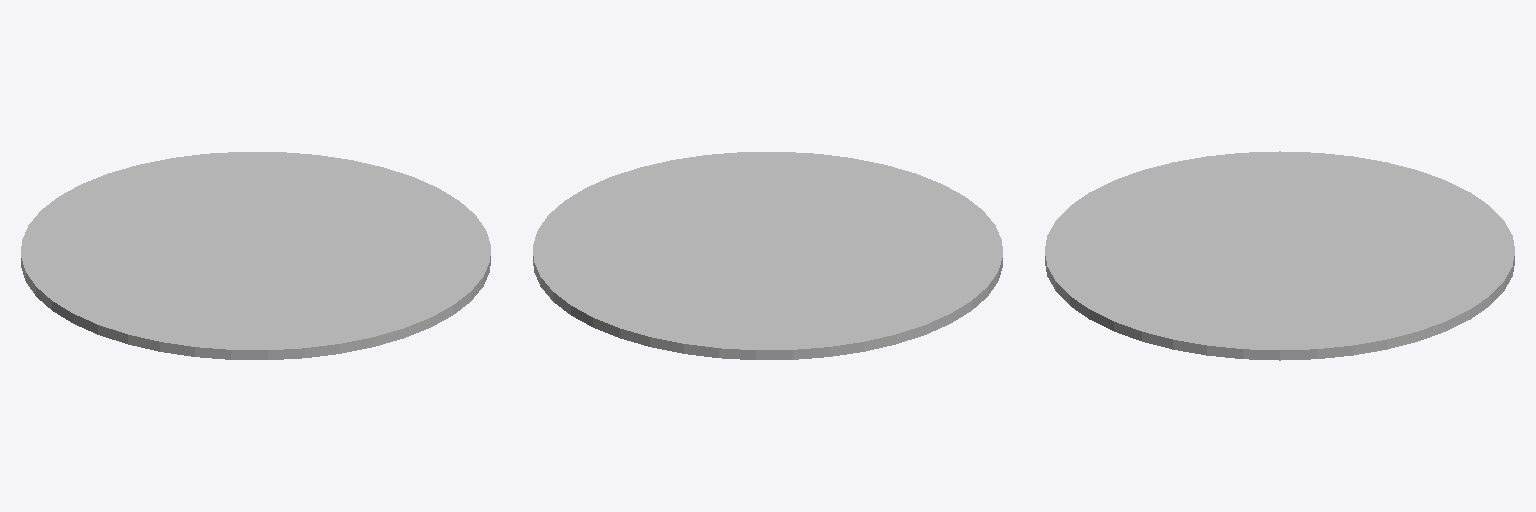
File: tent_circle_stage.obj
3 renders of one model, left to right at view 1: azimuth 30°, elevation 25°; view 2: azimuth 150°, elevation 25°; view 3: azimuth 270°, elevation 25°, orthographic.
Visible parts, largest first — view 1: pCylinder148_Mesh; view 2: pCylinder148_Mesh; view 3: pCylinder148_Mesh.
Part boxes in pixels (bbox=[...]): pCylinder148_Mesh: bbox=[21, 152, 490, 359]; pCylinder148_Mesh: bbox=[533, 152, 1002, 359]; pCylinder148_Mesh: bbox=[1045, 151, 1514, 360].
Bounding box in the file's own units: 17.95 × 0.4222 × 17.95.